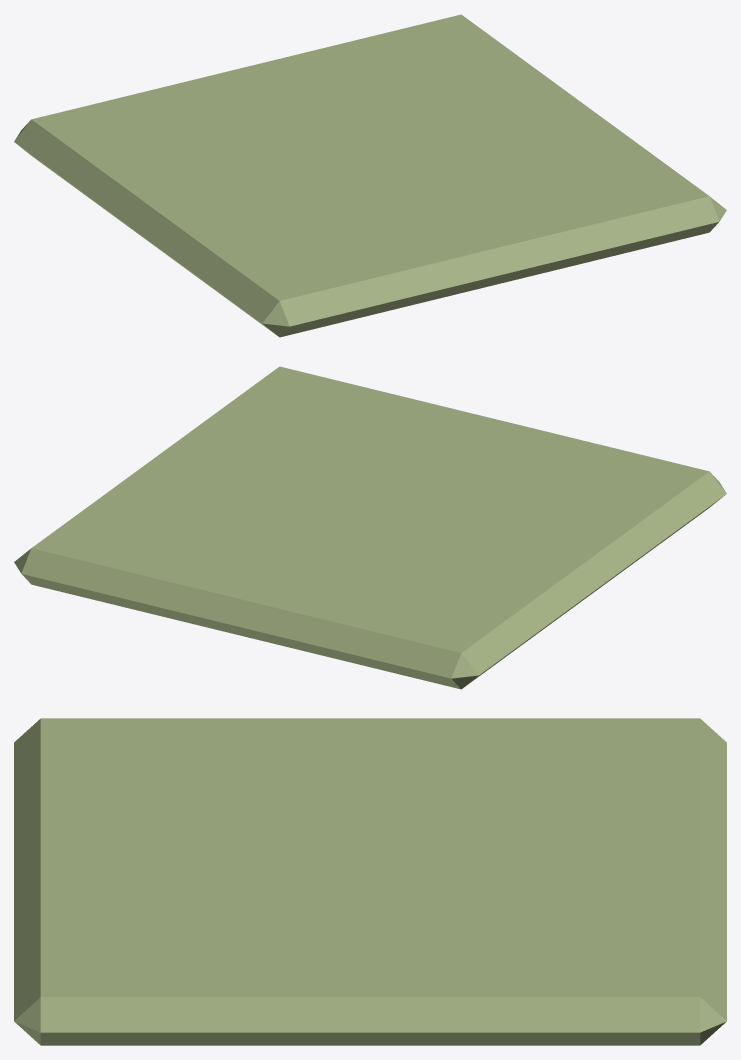
Rendered from ground-tile.glb.
3 renders of one model, top to bottom at view 1: azimuth 30°, elevation 25°; view 2: azimuth 150°, elevation 25°; view 3: azimuth 270°, elevation 25°, orthographic. The views are drawn at different scales.
Parts seen in each view (by area): view 1: ground; view 2: ground; view 3: ground.
Part boxes in pixels (x1,y1,x2,y2): ground: (14,14,726,337); ground: (14,366,726,689); ground: (14,718,726,1045).
Bounding box in the file's own units: 4 × 0.3 × 4.
